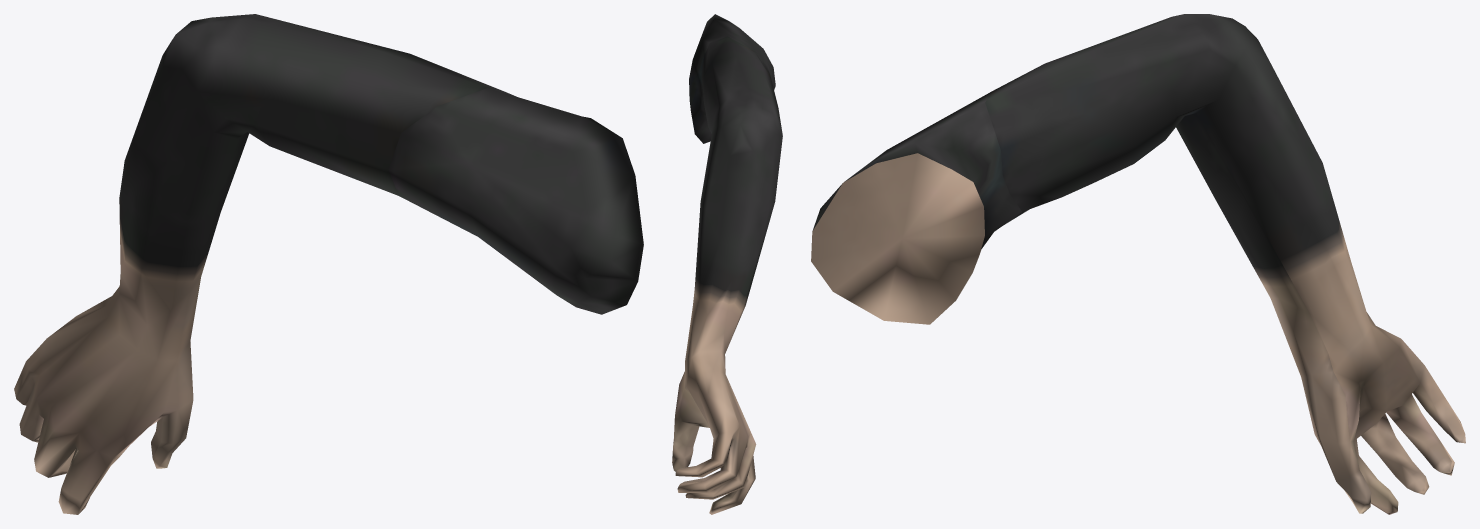
File: dest_nt_nuked_female_02_arm_right_LOD1.obj
3 renders of one model, left to right at view 1: azimuth 30°, elevation 25°; view 2: azimuth 150°, elevation 25°; view 3: azimuth 270°, elevation 25°, orthographic. The views are drawn at different scales.
Parts seen in each view (by area): view 1: mtl_nt_2020_manne_fem01_head1; view 2: mtl_nt_2020_manne_fem01_head1; view 3: mtl_nt_2020_manne_fem01_head1.
Part boxes in pixels (x1,y1,x2,y2): mtl_nt_2020_manne_fem01_head1: [14, 14, 643, 514]; mtl_nt_2020_manne_fem01_head1: [672, 14, 782, 514]; mtl_nt_2020_manne_fem01_head1: [811, 14, 1465, 514].
Bounding box in the file's own units: 24.03 × 40.13 × 45.43.
